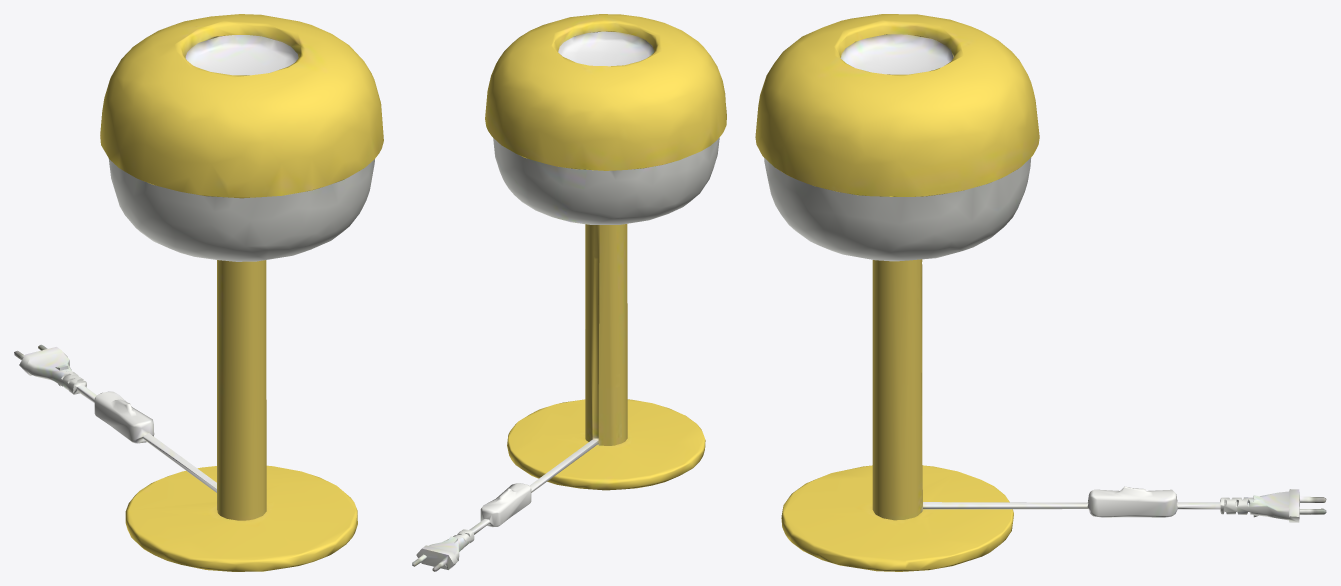
The model's file is 30 - BLÅSVERK Table lamp - yellow 36 cm.glb.
3 views of the same model, side by side, from view 1: azimuth 30°, elevation 25°; view 2: azimuth 150°, elevation 25°; view 3: azimuth 270°, elevation 25° (orthographic). The views are drawn at different scales.
Parts seen in each view (by area): view 1: ProcessedMeshNode; view 2: ProcessedMeshNode; view 3: ProcessedMeshNode.
Part boxes in pixels (box(x1,y1,x2,y2)): ProcessedMeshNode: box(14, 14, 383, 571); ProcessedMeshNode: box(412, 14, 726, 571); ProcessedMeshNode: box(755, 14, 1326, 571).
Bounding box in the file's own units: 0.1944 × 0.3592 × 0.3911.
Materials: 1 (1 with a texture image).
